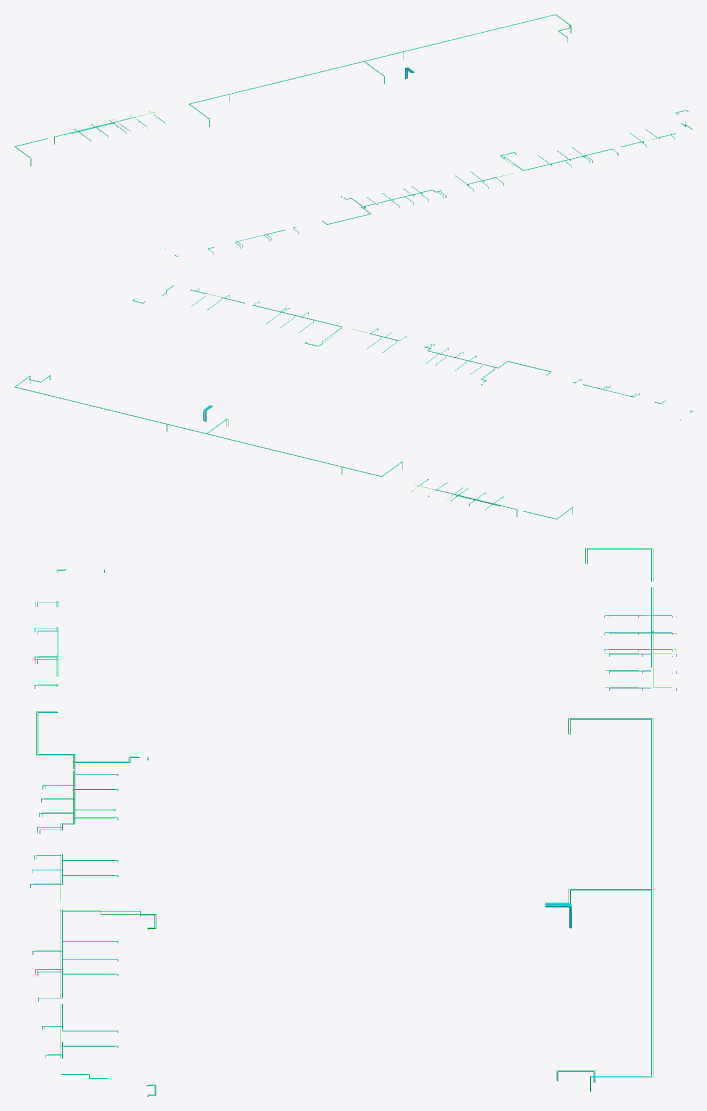
3 views of the same model, one above another, from view 1: azimuth 30°, elevation 25°; view 2: azimuth 150°, elevation 25°; view 3: azimuth 270°, elevation 25° (orthographic). The views are drawn at different scales.
Size of the model in its own units: 113 by 2.27 by 57.63.
